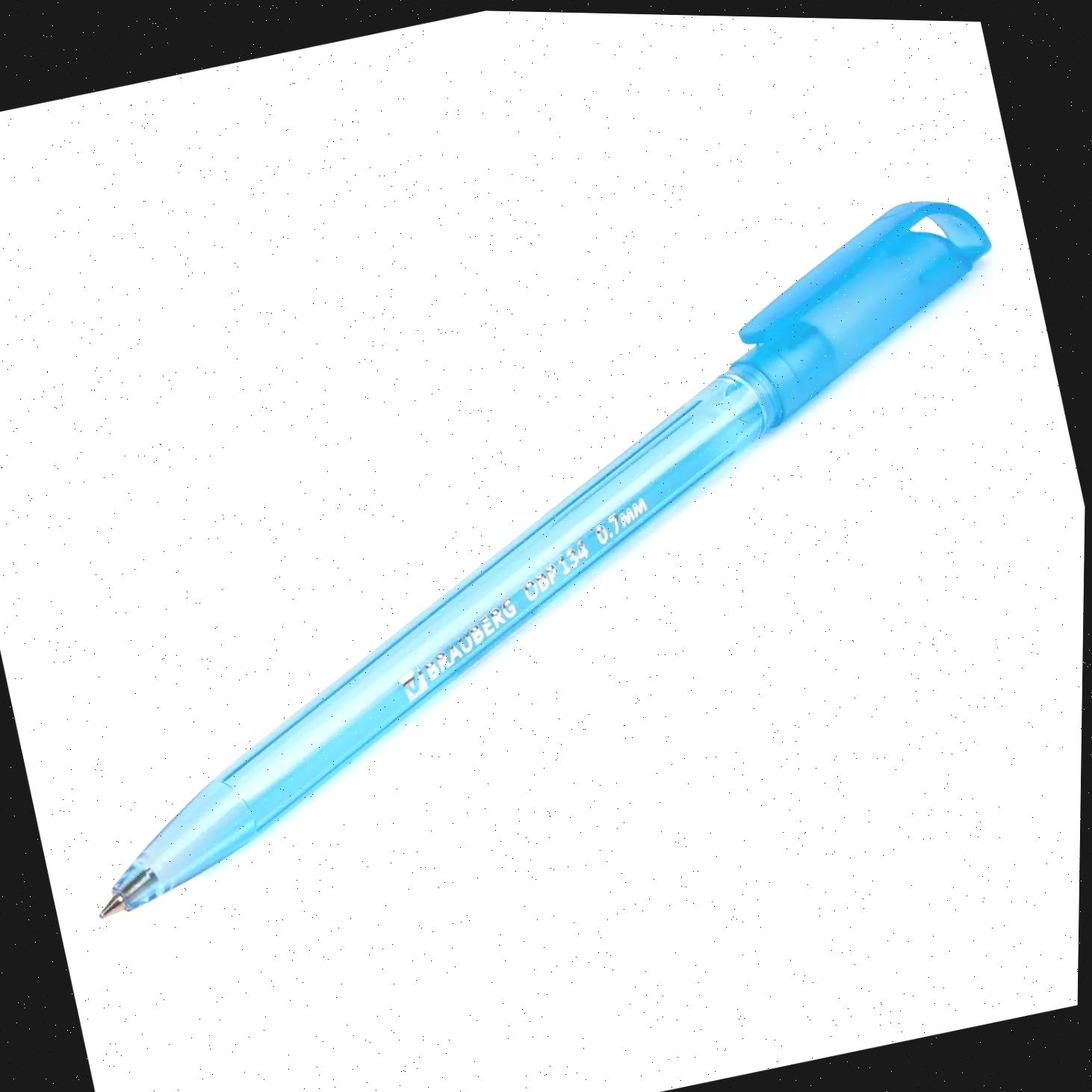pen-pencil: (101, 201, 989, 916)
